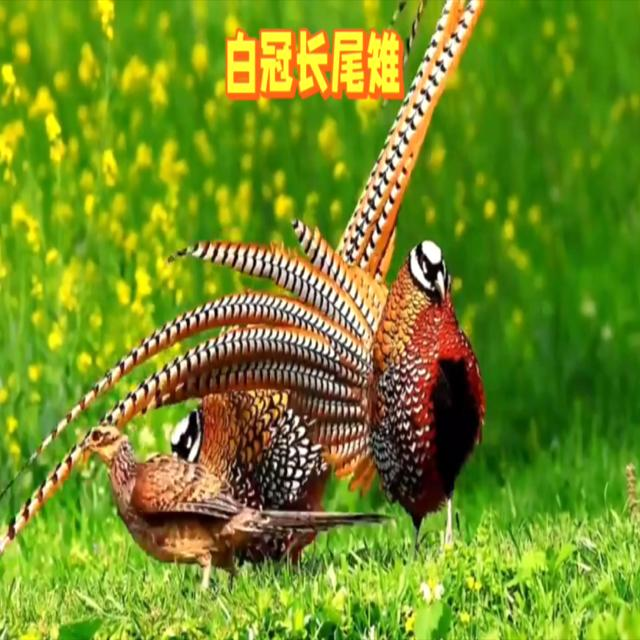Reeves-s Pheasant: (2, 214, 390, 552), (335, 1, 484, 280)
